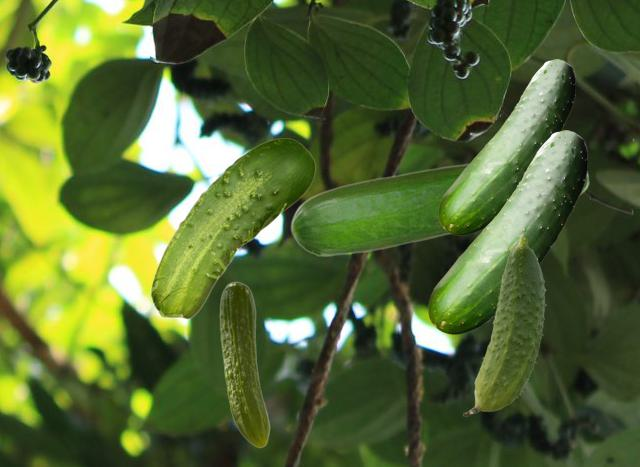cucumber: (428, 130, 586, 333), (150, 138, 314, 318), (290, 162, 588, 256), (438, 59, 574, 234), (463, 235, 545, 415), (219, 281, 269, 447)
